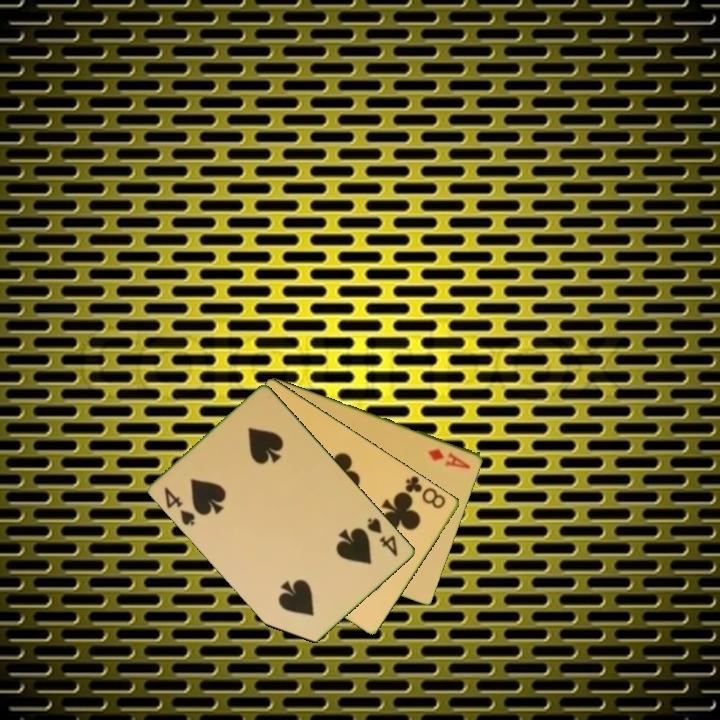4s: (364, 514, 401, 560), (161, 483, 198, 529)
8c: (400, 472, 449, 511)
Ad: (424, 444, 473, 471)
